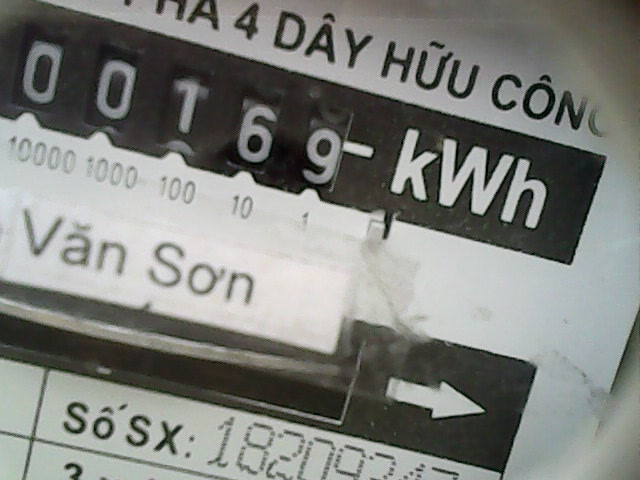phy_plate: (10, 3, 362, 221)
